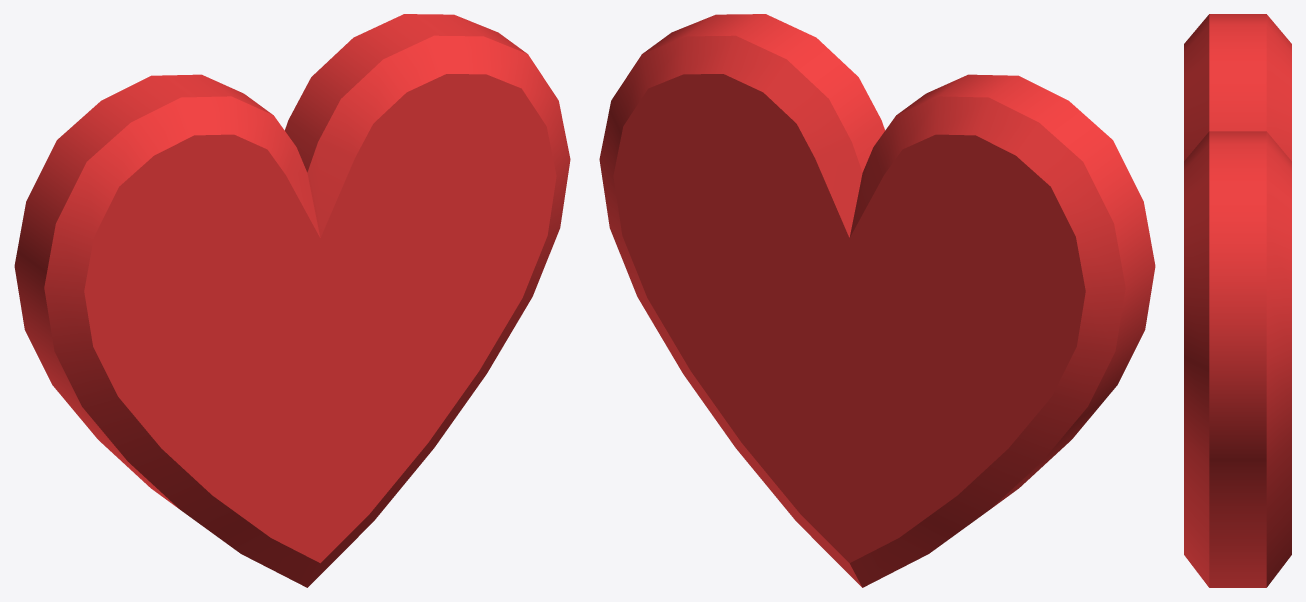
Rendered from Heart_TypeA.FBX.
The picture shows the model from 3 angles, left to right: view 1: azimuth 30°, elevation 25°; view 2: azimuth 150°, elevation 25°; view 3: azimuth 270°, elevation 25°; orthographic projection. The views are drawn at different scales.
Parts seen in each view (by area): view 1: Heart_TypeA; view 2: Heart_TypeA; view 3: Heart_TypeA.
Part boxes in pixels (x1,y1,x2,y2): Heart_TypeA: (14,14,570,587); Heart_TypeA: (599,14,1155,587); Heart_TypeA: (1184,14,1291,587).
Bounding box in the file's own units: 22.85 × 21.63 × 4.2.
